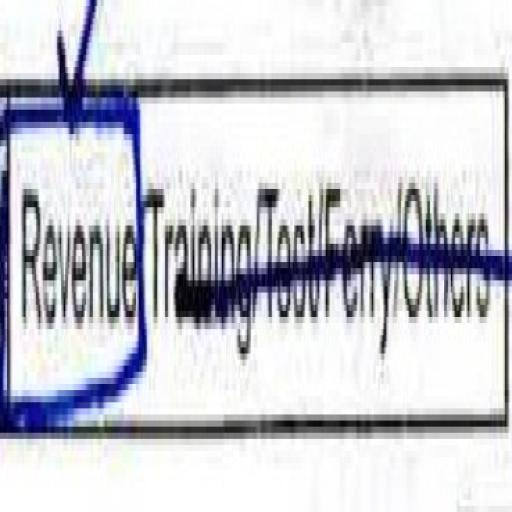check: (0, 0, 138, 511)
